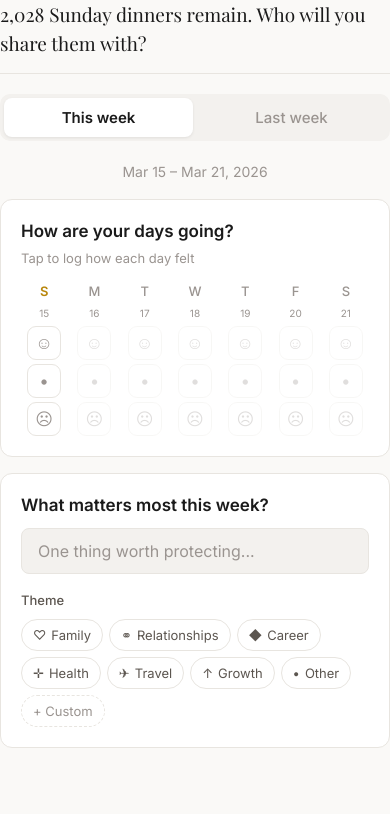
Test case: CheckIn — view switching › switches to Last Week view
The width and height of the screenshot is (390, 814).
Click the button "Last week" at [292, 118], box left=197, top=98, right=386, bottom=137
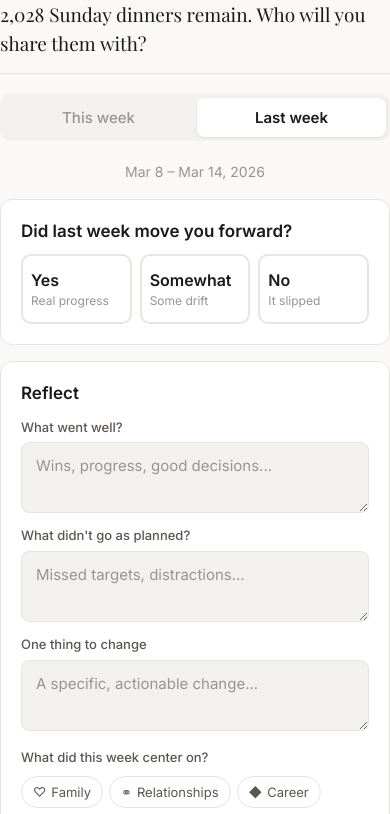
Check: the heading "Did last week move you forward?" is shown, box left=21, top=221, right=292, bottom=241
